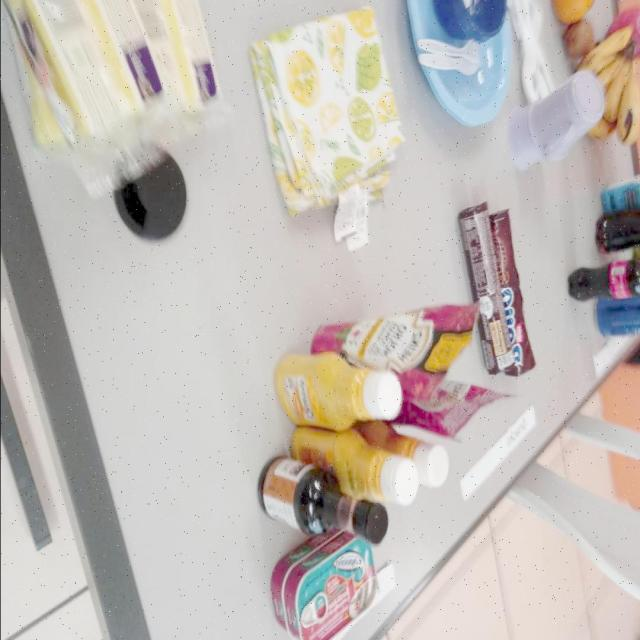Banana: (571, 13, 640, 150)
Cloth: (249, 5, 408, 250)
CoconutWater: (598, 173, 640, 207)
Coke: (563, 256, 640, 300), (596, 201, 640, 255)
Cookies: (458, 203, 513, 376), (488, 208, 538, 378)
EnglishSauce: (259, 452, 385, 541)
Kiwi: (562, 23, 597, 59)
Mustard: (288, 424, 417, 504), (273, 350, 401, 430), (350, 420, 450, 489)
Orange: (552, 1, 597, 20)
Sponge: (7, 0, 181, 197), (153, 0, 228, 136)
TomatoSauce: (305, 293, 484, 407), (393, 374, 514, 438)
Tonic: (596, 294, 640, 338)
TunaCan: (284, 533, 377, 640), (271, 531, 341, 633)
